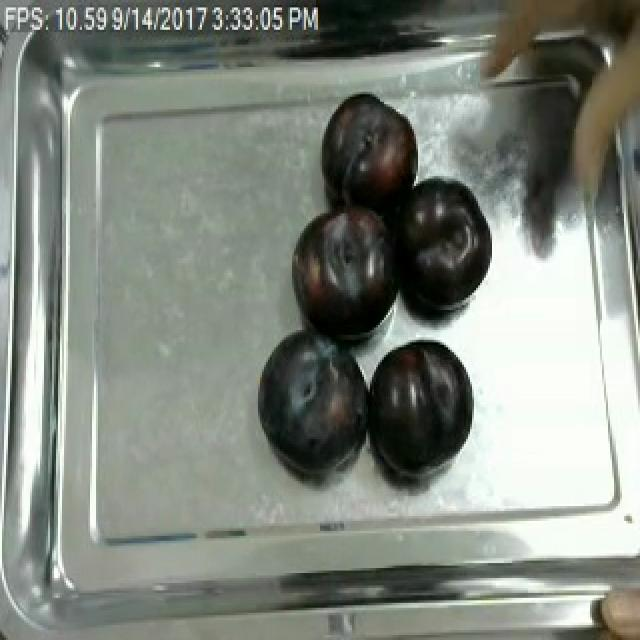Fruit: (250, 320, 372, 479), (286, 196, 410, 350), (386, 168, 500, 322), (364, 332, 476, 477), (314, 87, 426, 211), (590, 575, 640, 640)
